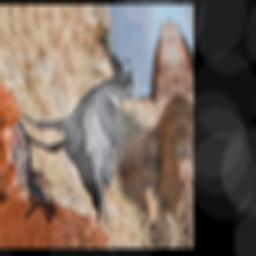Crow: (11, 56, 154, 234)
